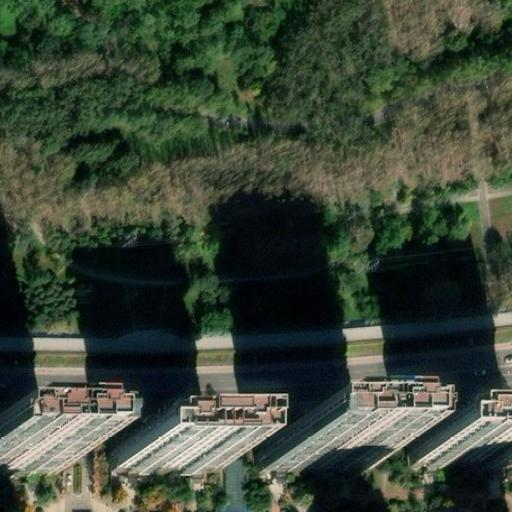building: (260, 440, 364, 472), (111, 440, 217, 470), (411, 438, 512, 468)
